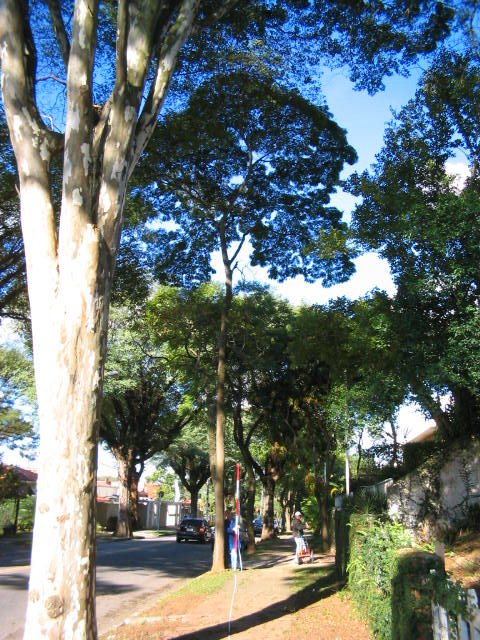crown: (138, 74, 356, 288)
stem: (4, 272, 130, 639), (208, 264, 233, 572)
stick: (229, 460, 242, 571)
tree: (135, 73, 359, 572)
